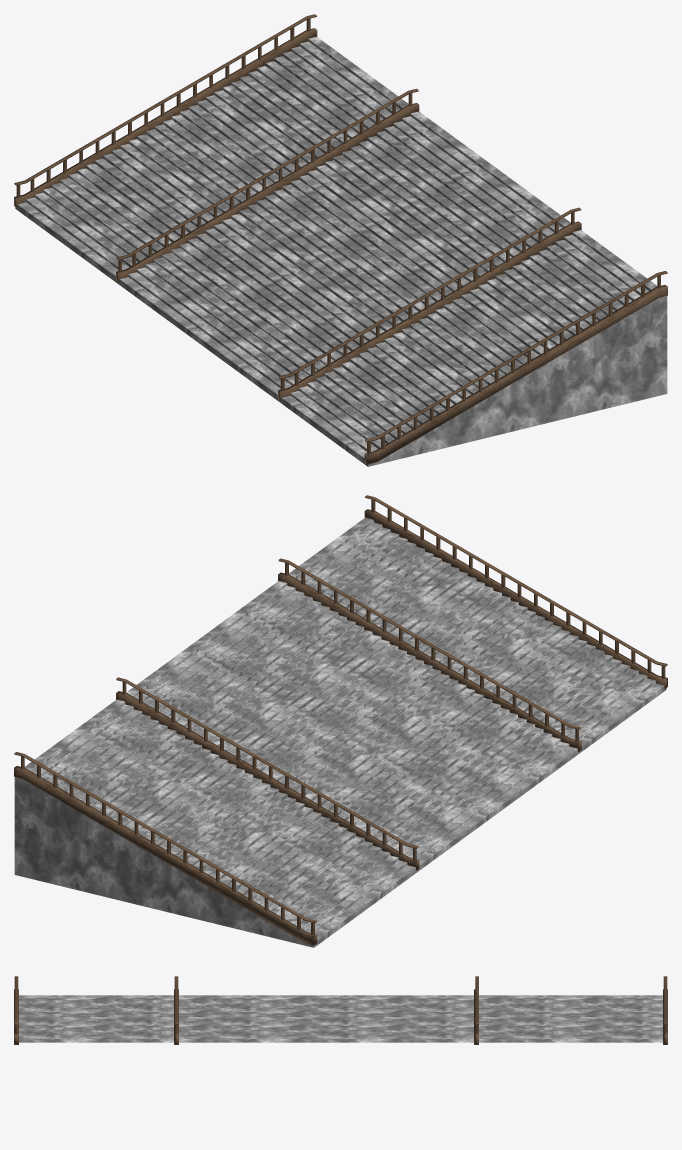
File: SM_stairs_large_03.fbx
3 renders of one model, top to bottom at view 1: azimuth 30°, elevation 25°; view 2: azimuth 150°, elevation 25°; view 3: azimuth 270°, elevation 25°, orthographic. The views are drawn at different scales.
Visible parts, largest first — view 1: SM_stairs_large_03; view 2: SM_stairs_large_03; view 3: SM_stairs_large_03.
Boxes of the visible parts, left/top/right/bottom form: SM_stairs_large_03: left=14, top=14, right=667, bottom=466; SM_stairs_large_03: left=14, top=495, right=667, bottom=947; SM_stairs_large_03: left=14, top=976, right=667, bottom=1044.
Bounding box in the file's own units: 1314 × 2674 × 507.
2 materials, 2 textured.
